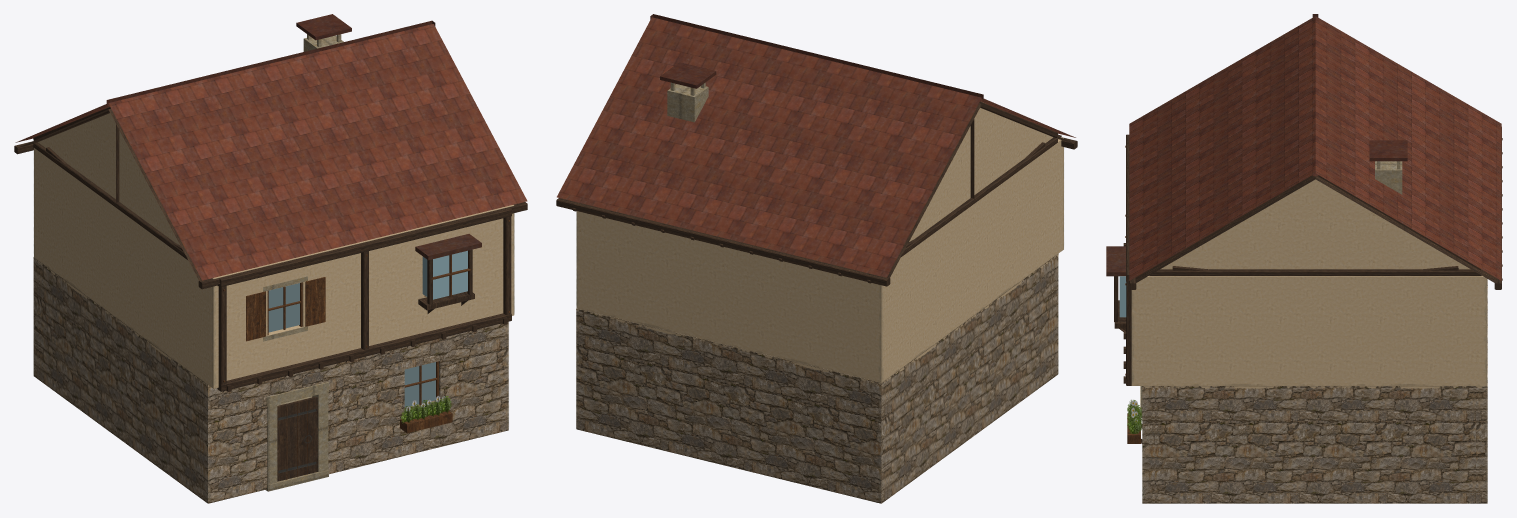
Rendered from B08_vivienda.gltf.
The picture shows the model from 3 angles, left to right: view 1: azimuth 30°, elevation 25°; view 2: azimuth 150°, elevation 25°; view 3: azimuth 270°, elevation 25°; orthographic projection. The views are drawn at different scales.
Parts seen in each view (by area): view 1: AUR034_B08_clay_tiles, B08_runtime_static_102, AUR034_B08_lower_masonry, B08_runtime_static_015, B08_runtime_static_000, AUR034_B08_entry_leaf0, B08_runtime_static_106, B08_runtime_static_079, B08_runtime_static_104, AUR034_B08_ridge, AUR034_B08_oriel2_clay_hood, AUR034_B08_window1_shutter1 (+3 smaller); view 2: AUR034_B08_clay_tiles, AUR034_B08_lower_masonry, B08_runtime_static_102, B08_runtime_static_015, AUR034_B08_ridge, B08_runtime_static_000, B08_plaster_stone_joint_wear, AUR034_B08_cowl; view 3: AUR034_B08_clay_tiles, B08_runtime_static_102, AUR034_B08_lower_masonry, B08_runtime_static_015, AUR034_B08_cowl, B08_runtime_static_000, B08_plaster_stone_joint_wear, AUR034_B08_oriel2_clay_hood.
Boxes of the visible parts, bbox=[...] form: AUR034_B08_clay_tiles: bbox=[15, 24, 527, 280]; B08_runtime_static_102: bbox=[34, 107, 514, 388]; AUR034_B08_lower_masonry: bbox=[33, 257, 508, 503]; B08_runtime_static_015: bbox=[14, 107, 527, 392]; B08_runtime_static_000: bbox=[263, 34, 426, 491]; AUR034_B08_entry_leaf0: bbox=[277, 396, 317, 481]; B08_runtime_static_106: bbox=[268, 283, 435, 407]; B08_runtime_static_079: bbox=[223, 220, 509, 479]; B08_runtime_static_104: bbox=[422, 250, 467, 299]; AUR034_B08_ridge: bbox=[106, 20, 435, 106]; AUR034_B08_oriel2_clay_hood: bbox=[415, 234, 481, 260]; AUR034_B08_window1_shutter1: bbox=[305, 277, 325, 326]; AUR034_B08_clay_tiles: bbox=[557, 17, 1075, 277]; AUR034_B08_lower_masonry: bbox=[576, 254, 1058, 503]; B08_runtime_static_102: bbox=[576, 102, 1063, 382]; B08_runtime_static_015: bbox=[556, 101, 1077, 286]; AUR034_B08_ridge: bbox=[650, 14, 983, 101]; B08_runtime_static_000: bbox=[667, 82, 708, 122]; B08_plaster_stone_joint_wear: bbox=[576, 254, 1058, 383]; AUR034_B08_cowl: bbox=[660, 62, 716, 88]; AUR034_B08_clay_tiles: bbox=[1129, 16, 1501, 280]; B08_runtime_static_102: bbox=[1131, 179, 1486, 385]; AUR034_B08_lower_masonry: bbox=[1142, 279, 1487, 503]; B08_runtime_static_015: bbox=[1114, 127, 1502, 443]; AUR034_B08_cowl: bbox=[1369, 140, 1407, 161]; B08_runtime_static_000: bbox=[1140, 161, 1402, 417]; B08_plaster_stone_joint_wear: bbox=[1136, 384, 1487, 388]; AUR034_B08_oriel2_clay_hood: bbox=[1106, 246, 1125, 276].
Bounding box in the file's own units: 8.96 × 9.03 × 9.55.
16 materials, 14 textured.
